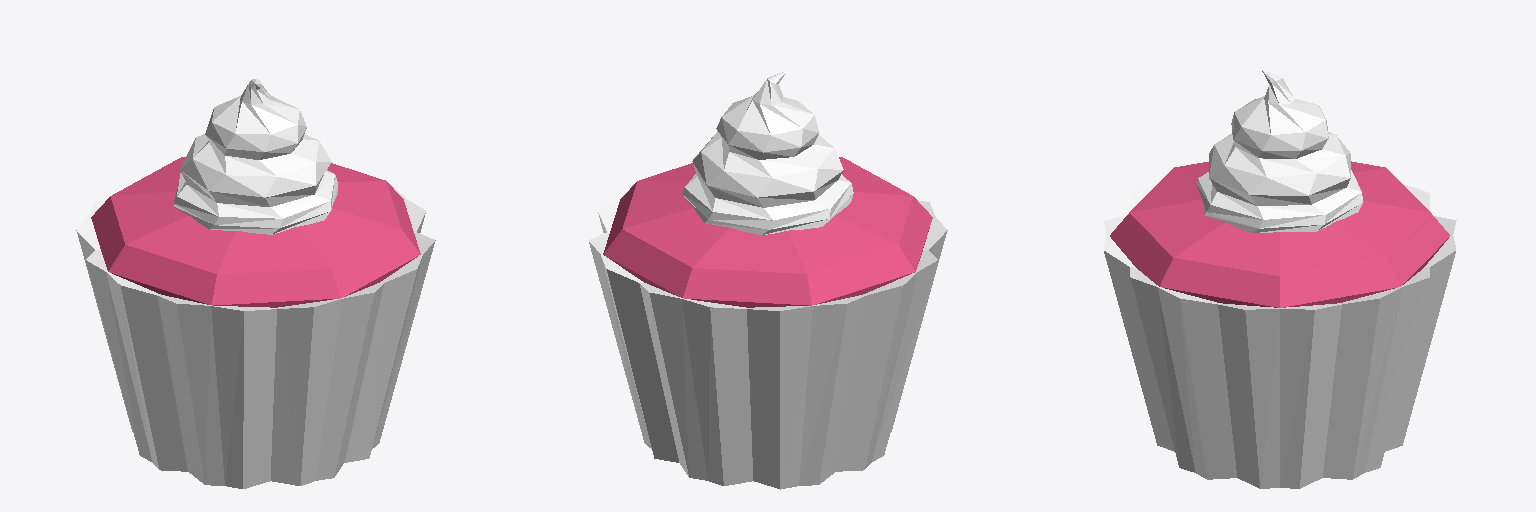
File: Cupcake_01.obj
The picture shows the model from 3 angles: view 1: azimuth 30°, elevation 25°; view 2: azimuth 150°, elevation 25°; view 3: azimuth 270°, elevation 25°; orthographic projection.
Parts seen in each view (by area): view 1: Circle.007; view 2: Circle.007; view 3: Circle.007.
Part boxes in pixels (x1,y1,x2,y2): Circle.007: (76,79,435,488); Circle.007: (588,71,947,489); Circle.007: (1104,70,1456,488).
Bounding box in the file's own units: 10.46 × 11.85 × 10.46.